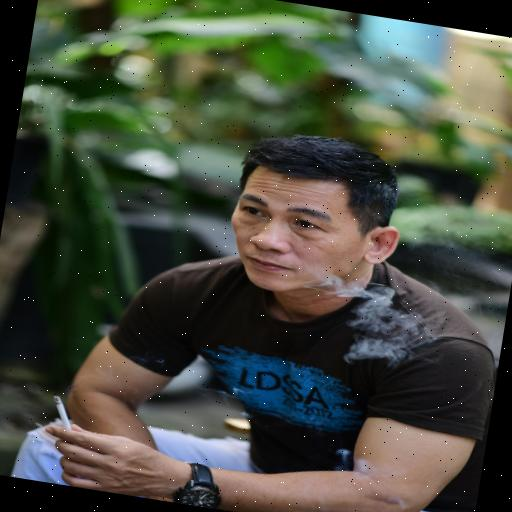asap rokok: (260, 218, 438, 386)
pegang rokok: (0, 347, 169, 498)
